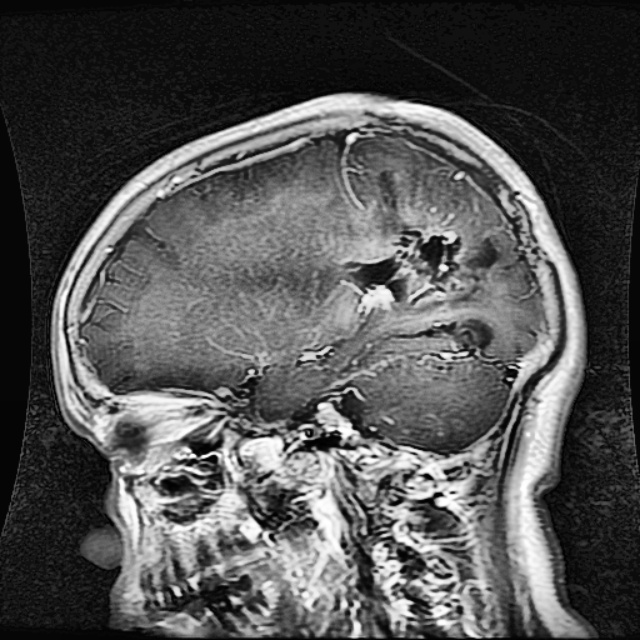Meningioma: (352, 225, 477, 320)
